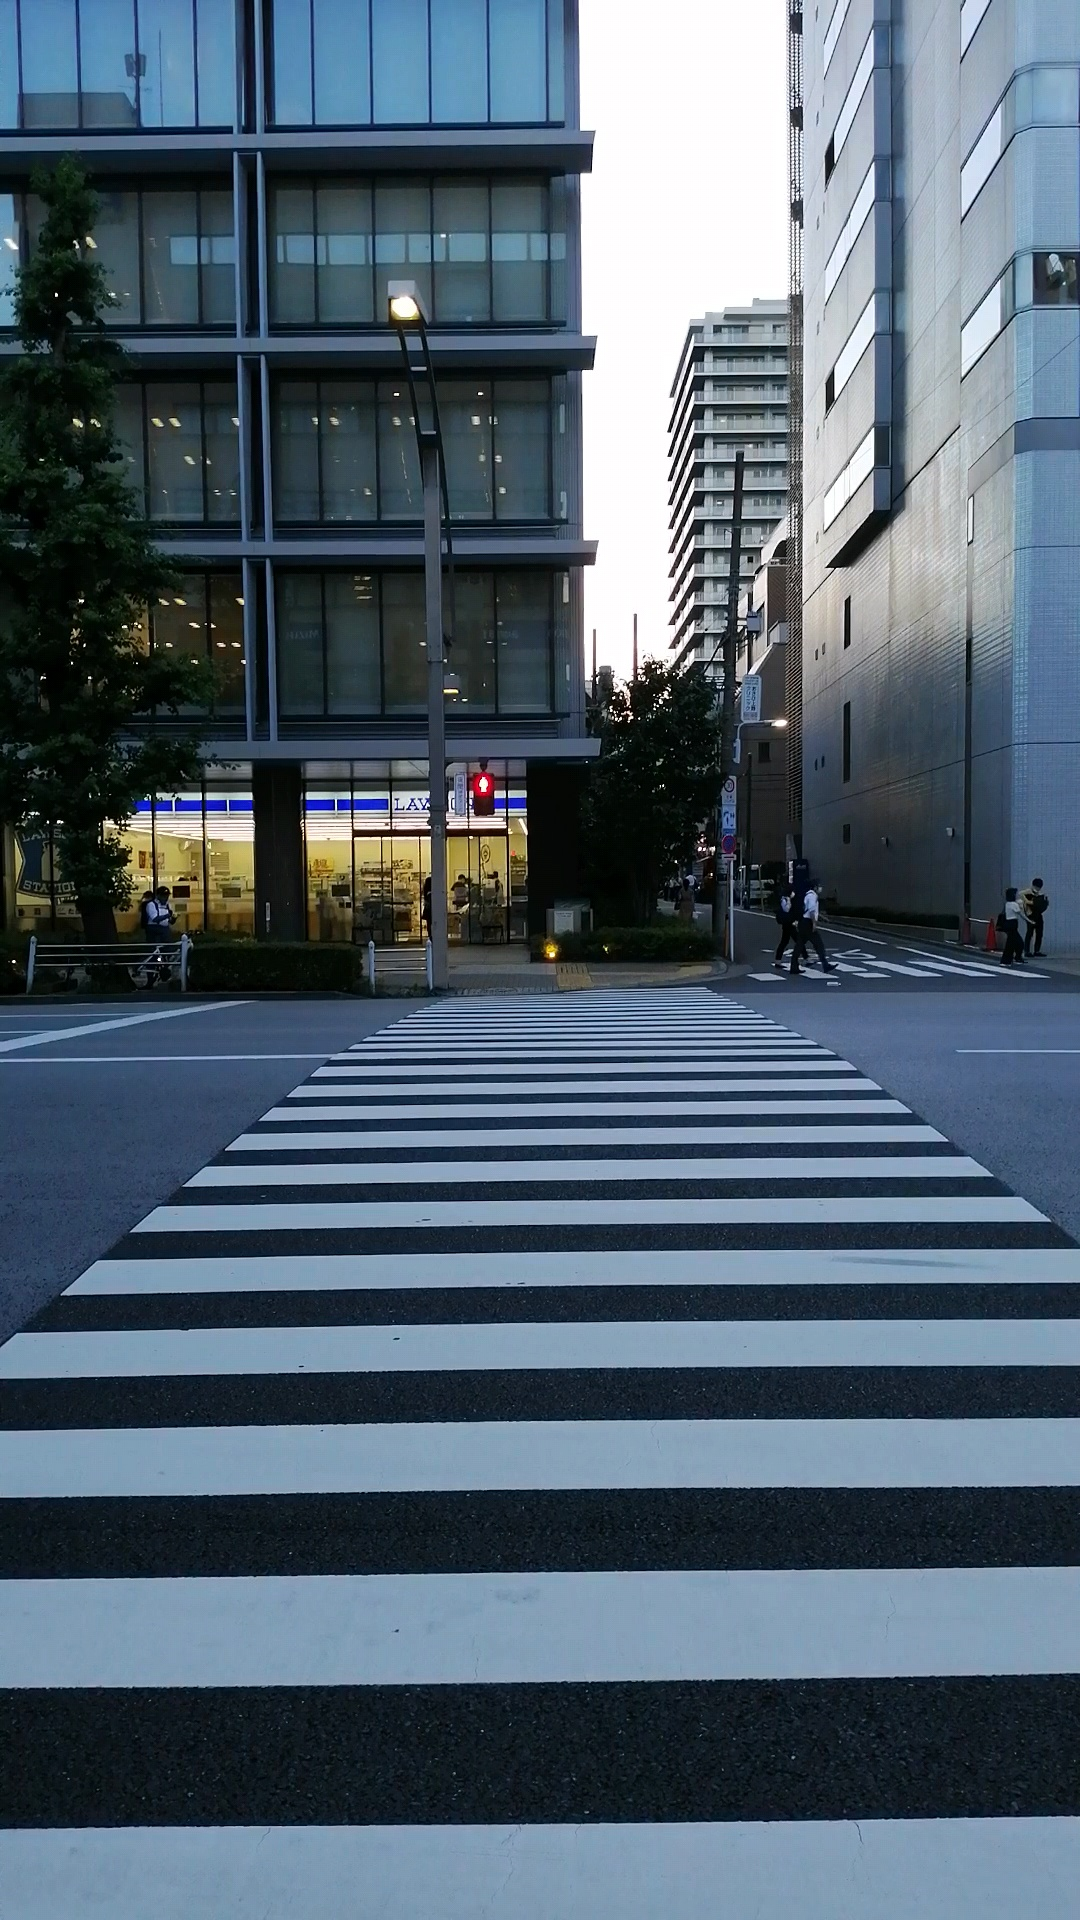red: (469, 771, 495, 820)
